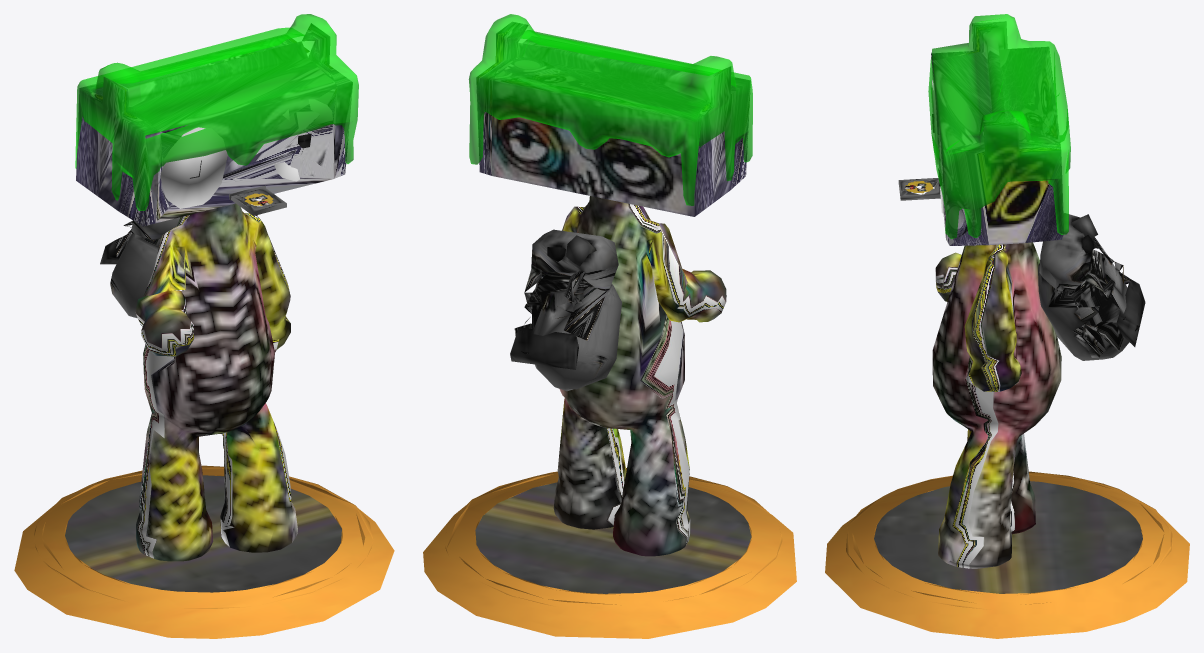
3 views of the same model, side by side, from view 1: azimuth 30°, elevation 25°; view 2: azimuth 150°, elevation 25°; view 3: azimuth 270°, elevation 25° (orthographic). The views are drawn at different scales.
Size of the model in its own units: 1.44 by 2.15 by 1.42.
12 materials, 6 textured.
